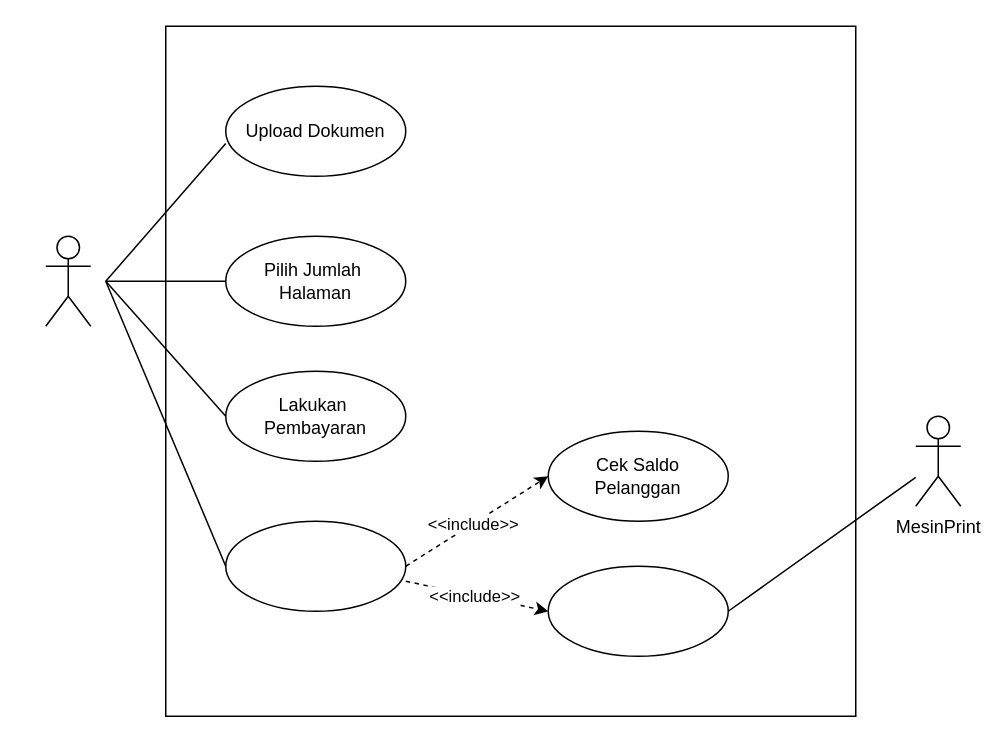
The diagram is 1007 pixels wide and 743 high, and some of its shapes have lost their labels. The centre of each missing label's shape, as x and y in pixels:
"Cek Status Mesin (Tinta & Kertas)" belongs at (637,610).
"Cetak Dokumen" belongs at (315,565).
"Pelanggan" belongs at (67,280).
